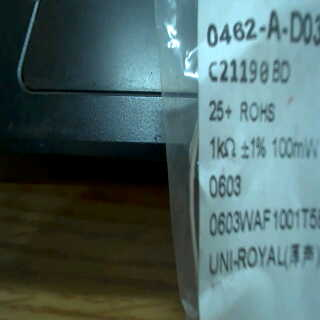1kR: (207, 133, 237, 159)
